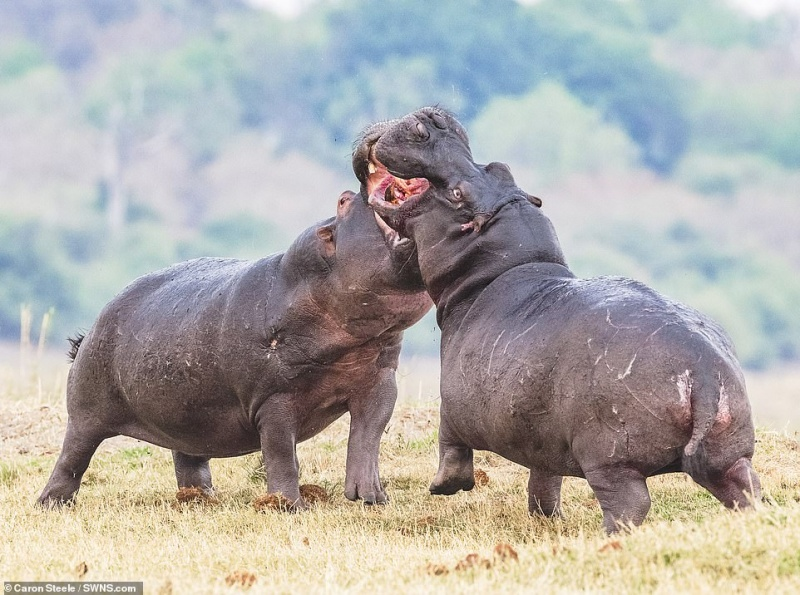hipopotamo: (372, 96, 770, 551), (38, 72, 429, 533)
